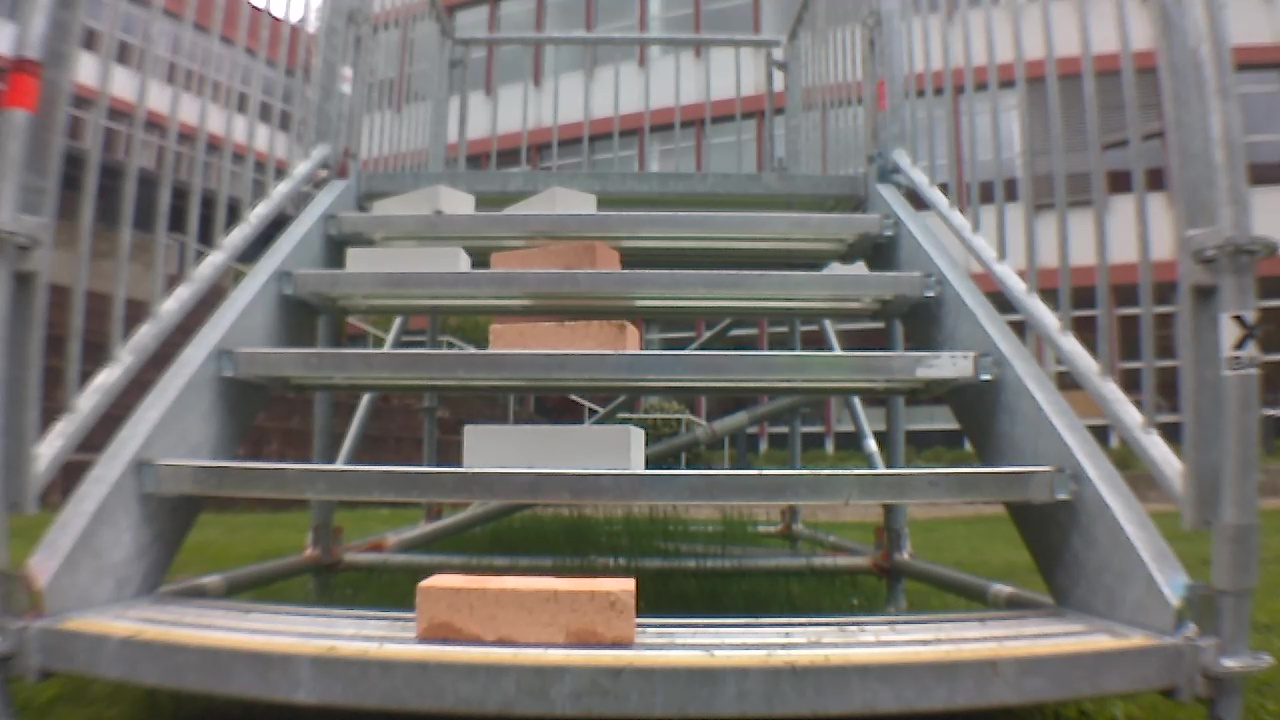brick: (417, 574, 636, 644), (464, 425, 644, 469), (490, 321, 638, 349), (490, 242, 617, 268), (346, 247, 471, 271), (373, 187, 473, 211), (504, 187, 595, 212)
edge: (41, 628, 1176, 714), (137, 463, 1076, 502), (219, 351, 999, 377), (279, 269, 940, 293), (326, 213, 897, 236), (362, 171, 869, 192)
stairs: (4, 2, 1275, 717)
steps: (37, 165, 1183, 718)
